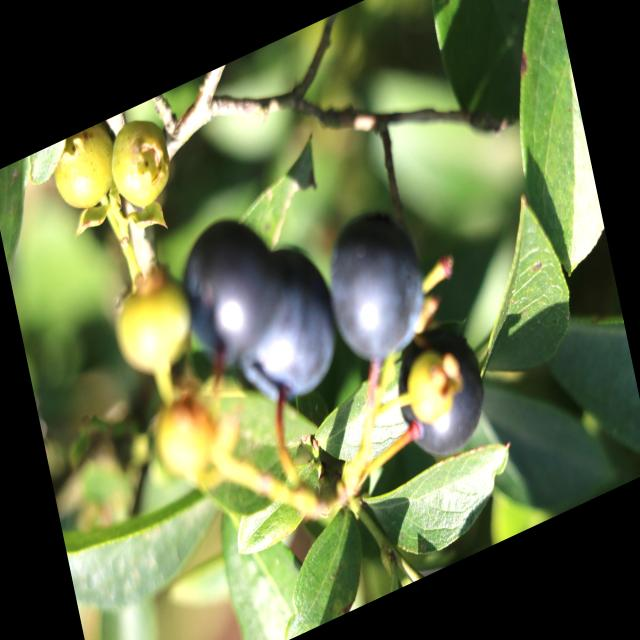blueberry: (233, 233, 350, 419), (320, 206, 431, 382), (171, 206, 283, 372), (394, 314, 496, 464)
blueberry-unripe: (109, 266, 197, 388), (100, 106, 179, 222), (47, 117, 127, 222), (146, 388, 220, 492), (403, 344, 458, 431)
